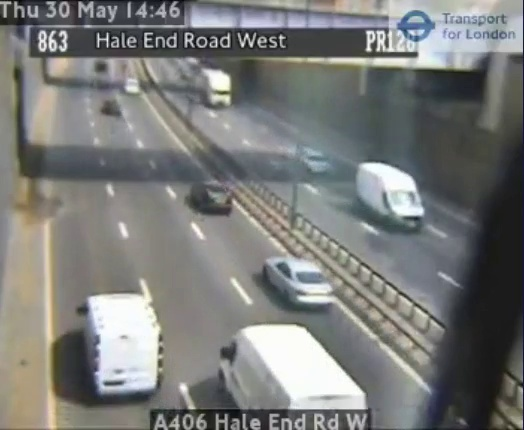car: (263, 257, 335, 306), (191, 182, 231, 212)
van: (220, 324, 368, 409), (83, 293, 163, 395)
